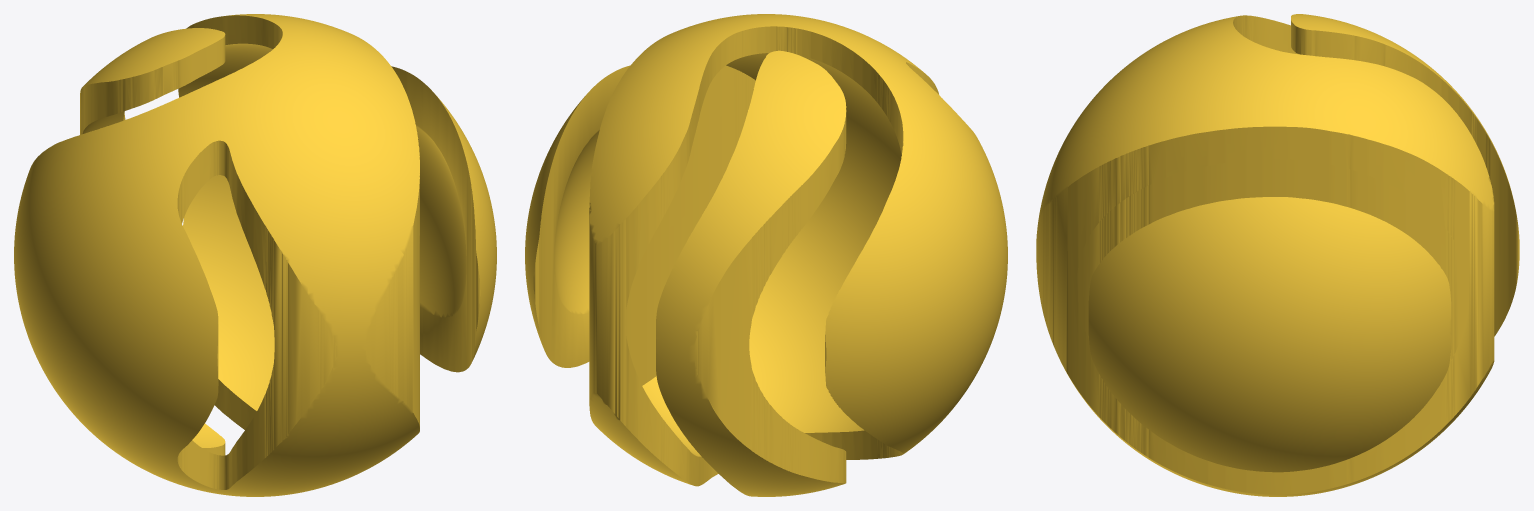
The model's file is sinhala_kw_globe_exact.glb.
The picture shows the model from 3 angles, left to right: view 1: azimuth 30°, elevation 25°; view 2: azimuth 150°, elevation 25°; view 3: azimuth 270°, elevation 25°; orthographic projection.
Visible parts, largest first — view 1: SinhalaKW_Globe_Shell; view 2: SinhalaKW_Globe_Shell; view 3: SinhalaKW_Globe_Shell.
Part boxes in pixels (box(x1,y1,x2,y2)): SinhalaKW_Globe_Shell: box(14, 14, 496, 496); SinhalaKW_Globe_Shell: box(525, 14, 1007, 496); SinhalaKW_Globe_Shell: box(1036, 14, 1519, 496).
Size of the model in its own units: 2 by 1.99 by 2.
